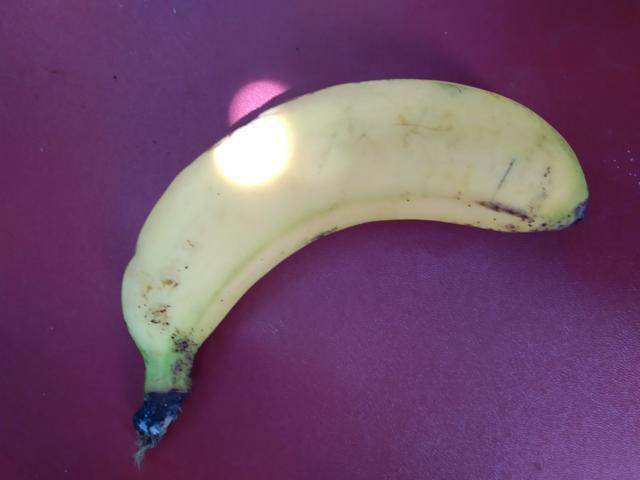freshripe: (116, 54, 601, 399)
